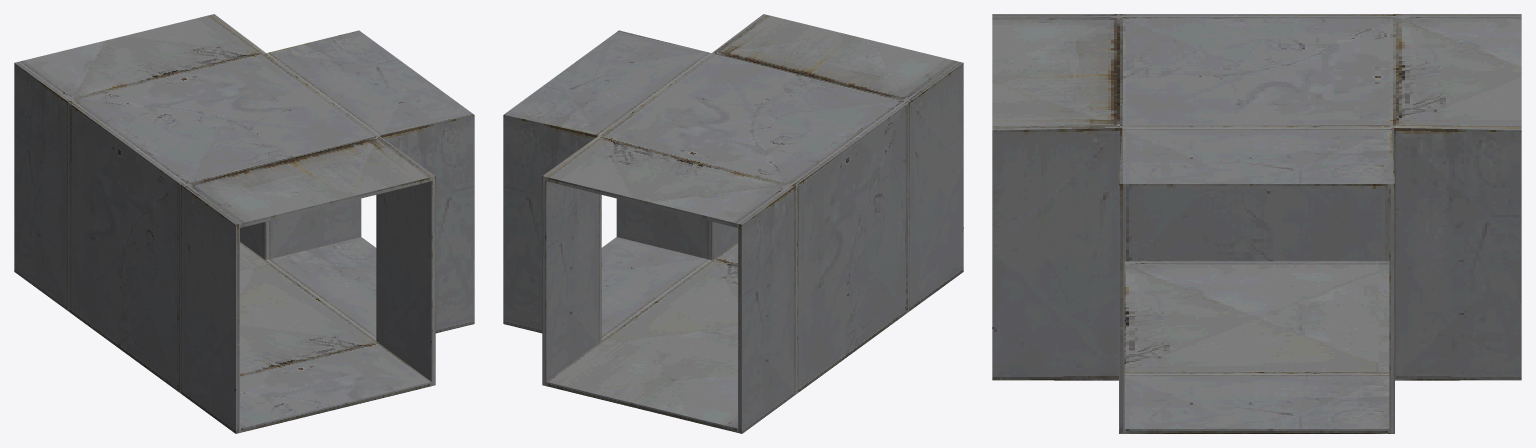
Rendered from duct_intersection_T.glb.
3 views of the same model, side by side, from view 1: azimuth 30°, elevation 25°; view 2: azimuth 150°, elevation 25°; view 3: azimuth 270°, elevation 25° (orthographic). The views are drawn at different scales.
Parts seen in each view (by area): view 1: duct_intersection_T; view 2: duct_intersection_T; view 3: duct_intersection_T.
Part boxes in pixels (x1=…): duct_intersection_T: x1=14, y1=14, x2=474, y2=433; duct_intersection_T: x1=503, y1=14, x2=963, y2=433; duct_intersection_T: x1=992, y1=14, x2=1521, y2=433.
Bounding box in the file's own units: 1.52 × 1.05 × 2.
Materials: 1 (1 with a texture image).
